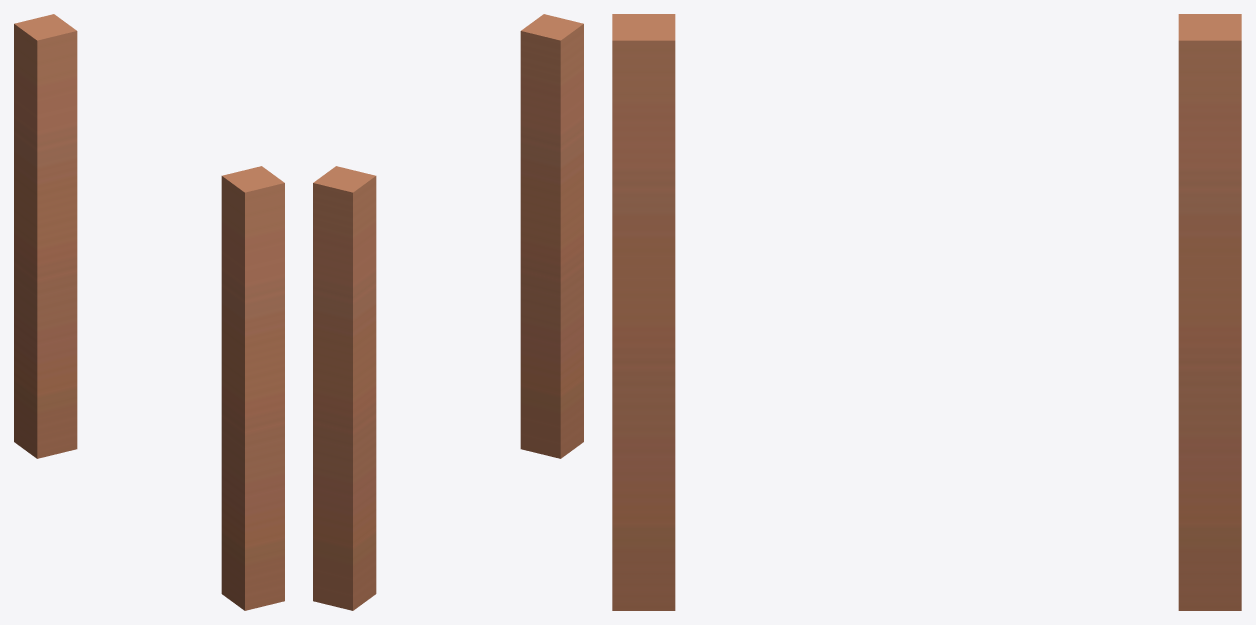
The model's file is poles.glb.
The picture shows the model from 3 angles, left to right: view 1: azimuth 30°, elevation 25°; view 2: azimuth 150°, elevation 25°; view 3: azimuth 270°, elevation 25°; orthographic projection. The views are drawn at different scales.
Parts seen in each view (by area): view 1: poles; view 2: poles; view 3: poles.
Boxes of the visible parts, bbox=[...] form: poles: bbox=[14, 14, 284, 610]; poles: bbox=[313, 14, 583, 610]; poles: bbox=[612, 14, 1241, 610].
Size of the model in its own units: 0.1 by 1 by 1.
1 material, 1 textured.
